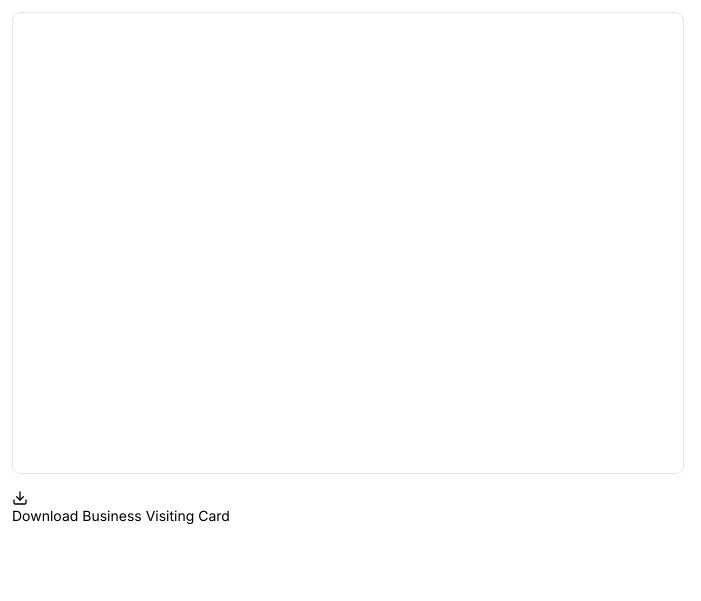
Test: BusinessCardPanel › reports a failure, downloads nothing, and lets the customer retry
This screenshot has width=701, height=601.
Later steps or results of the test are not shown.
Click the button "Download Business Visiting Card". click: (121, 508)
box: [12,490,230,526]
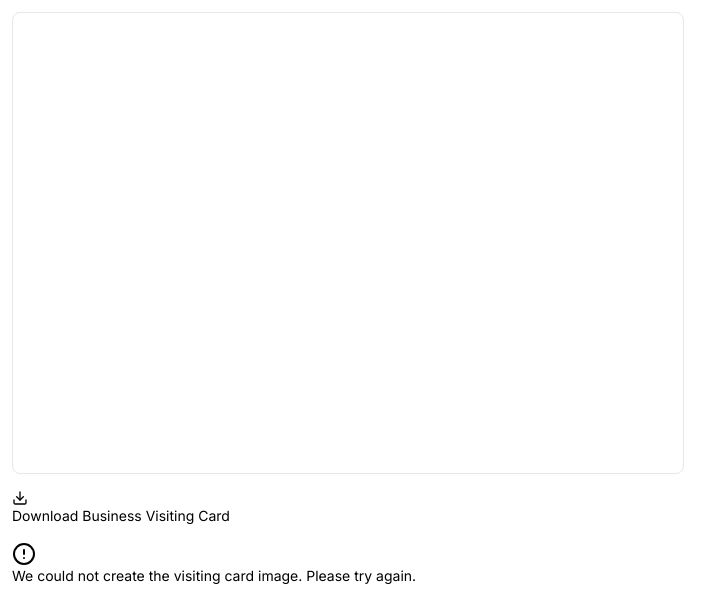
Result: the text "could not create the visiting card image" is shown at [12,567,416,584]
